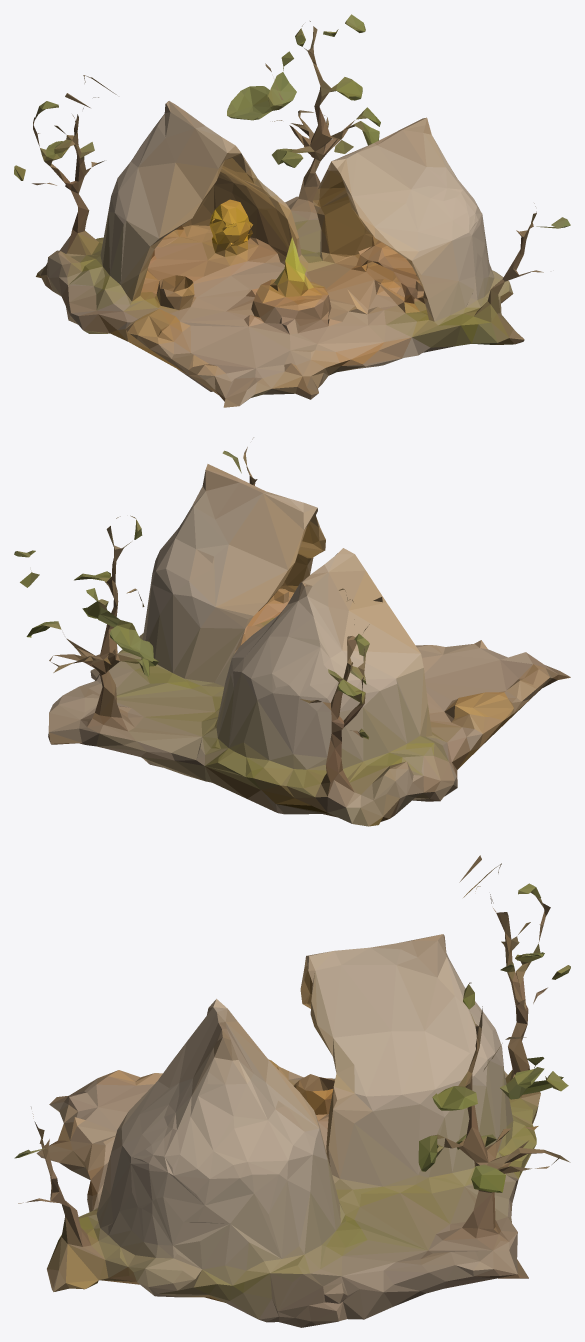
Rendered from elf_camp.glb.
3 renders of one model, top to bottom at view 1: azimuth 30°, elevation 25°; view 2: azimuth 150°, elevation 25°; view 3: azimuth 270°, elevation 25°, orthographic. The views are drawn at different scales.
Parts seen in each view (by area): view 1: geometry_0; view 2: geometry_0; view 3: geometry_0.
Part boxes in pixels (box(x1,y1,x2,y2)): geometry_0: box(14, 14, 570, 407); geometry_0: box(14, 437, 570, 826); geometry_0: box(14, 855, 570, 1327).
Size of the model in its own units: 1.71 by 1.08 by 1.82.
